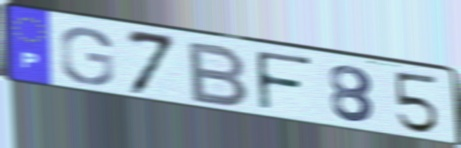5: (392, 69, 441, 135)
7: (126, 27, 180, 99)
8: (327, 64, 376, 124)
B: (187, 39, 252, 109)
F: (252, 48, 315, 115)
G: (57, 26, 117, 87)
